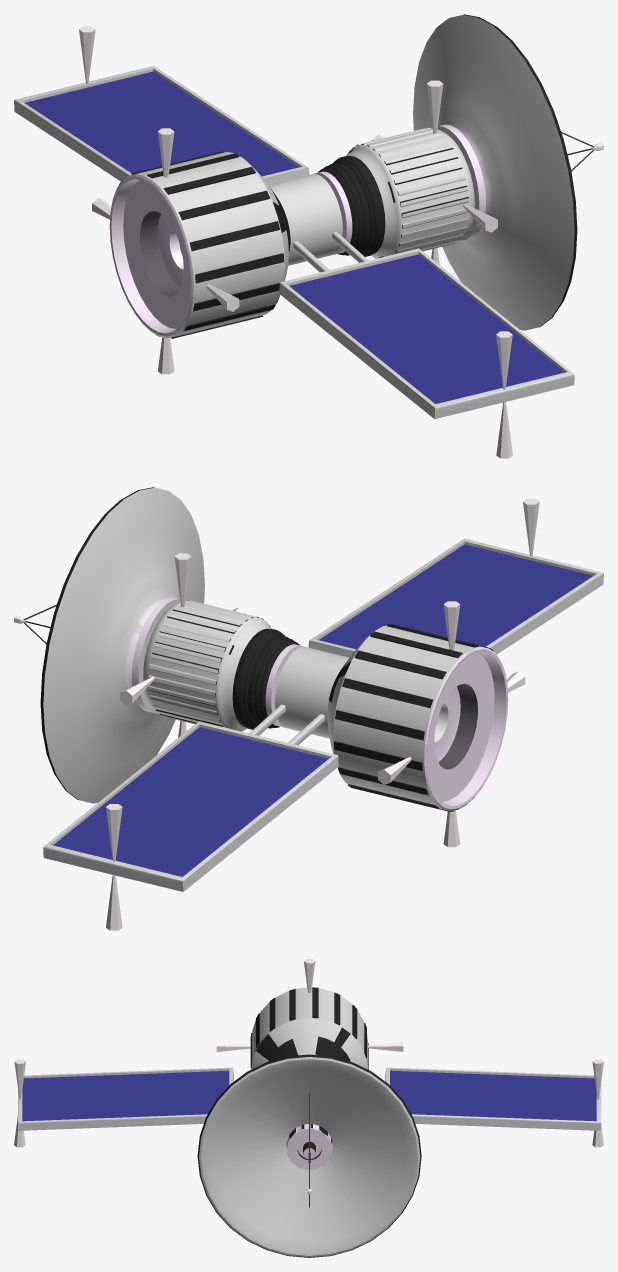
Rendered from Satellite.obj.
3 views of the same model, one above another, from view 1: azimuth 30°, elevation 25°; view 2: azimuth 150°, elevation 25°; view 3: azimuth 270°, elevation 25° (orthographic). The views are drawn at different scales.
Parts seen in each view (by area): view 1: Satélite_Cylinder.004, Placas_Cylinder.001, Couro_Cylinder, Cone_Cone.001, Cone.001_Cone.002, Cone.003_Cone.004, Cone.006_Cone.007; view 2: Satélite_Cylinder.004, Placas_Cylinder.001, Couro_Cylinder, Cone_Cone.001, Cone.001_Cone.002, Cone.002_Cone.003, Cone.006_Cone.007; view 3: Satélite_Cylinder.004, Placas_Cylinder.001.
Part boxes in pixels (x1,y1,x2,y2): Satélite_Cylinder.004: (109,14,592,338); Placas_Cylinder.001: (14,66,574,419); Couro_Cylinder: (318,156,385,256); Cone_Cone.001: (496,331,512,389); Cone.001_Cone.002: (79,26,95,84); Cone.003_Cone.004: (496,402,512,458); Cone.006_Cone.007: (426,80,443,133); Satélite_Cylinder.004: (25,487,508,811); Placas_Cylinder.001: (43,539,603,891); Couro_Cylinder: (232,628,299,729); Cone_Cone.001: (523,498,539,556); Cone.001_Cone.002: (106,804,122,861); Cone.002_Cone.003: (106,875,122,930); Cone.006_Cone.007: (174,553,191,607); Satélite_Cylinder.004: (197,987,421,1257); Placas_Cylinder.001: (18,1067,601,1130).
Bounding box in the file's own units: 6.21 × 3.85 × 10.13.
